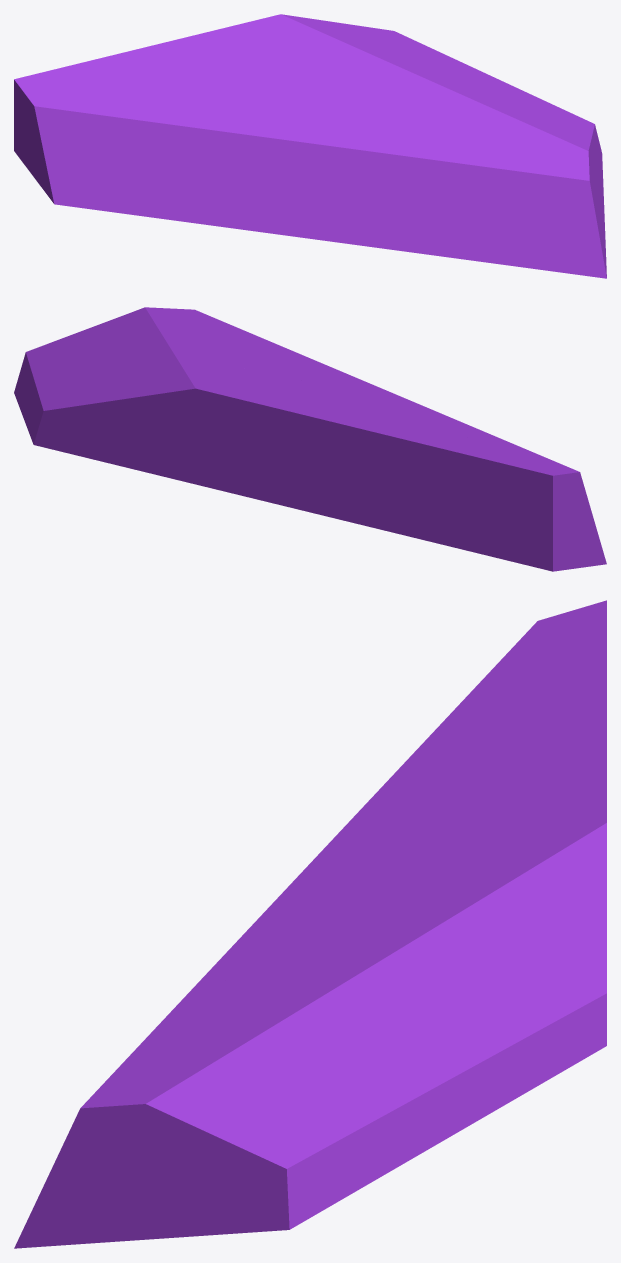
The model's file is Window_149_3_chunks.fbx.
The picture shows the model from 3 angles, top to bottom: view 1: azimuth 30°, elevation 25°; view 2: azimuth 150°, elevation 25°; view 3: azimuth 270°, elevation 25°; orthographic projection. The views are drawn at different scales.
Parts seen in each view (by area): view 1: Window_149_3_1, Window_149_3_4, Window_149_3_9, Window_149_3_2, Window_149_3_8, Window_149_3_5, Window_149_3_7, Window_149_3_0; view 2: Window_149_3_8, Window_149_3_1, Window_149_3_9, Window_149_3_6, Window_149_3_5, Window_149_3_7, Window_149_3_0, Window_149_3_4; view 3: Window_149_3_1, Window_149_3_9, Window_149_3_8, Window_149_3_5, Window_149_3_7, Window_149_3_4.
Boxes of the visible parts, box(x1,y1,x2,y2) form: Window_149_3_1: box(367, 27, 606, 278); Window_149_3_4: box(235, 143, 519, 266); Window_149_3_9: box(186, 14, 376, 114); Window_149_3_2: box(48, 122, 263, 228); Window_149_3_8: box(14, 37, 186, 173); Window_149_3_5: box(214, 102, 435, 169); Window_149_3_7: box(45, 85, 269, 175); Window_149_3_0: box(16, 153, 67, 206); Window_149_3_8: box(306, 419, 596, 571); Window_149_3_1: box(14, 307, 276, 462); Window_149_3_9: box(80, 363, 402, 457); Window_149_3_6: box(77, 405, 347, 521); Window_149_3_5: box(266, 353, 443, 418); Window_149_3_7: box(377, 401, 598, 540); Window_149_3_0: box(555, 538, 606, 571); Window_149_3_4: box(273, 344, 337, 369); Window_149_3_1: box(14, 907, 606, 1248); Window_149_3_9: box(369, 744, 606, 954); Window_149_3_8: box(481, 600, 606, 749); Window_149_3_5: box(243, 778, 406, 971); Window_149_3_7: box(393, 681, 502, 824); Window_149_3_4: box(178, 926, 251, 1003).
Size of the model in its own units: 726 by 245 by 440.
